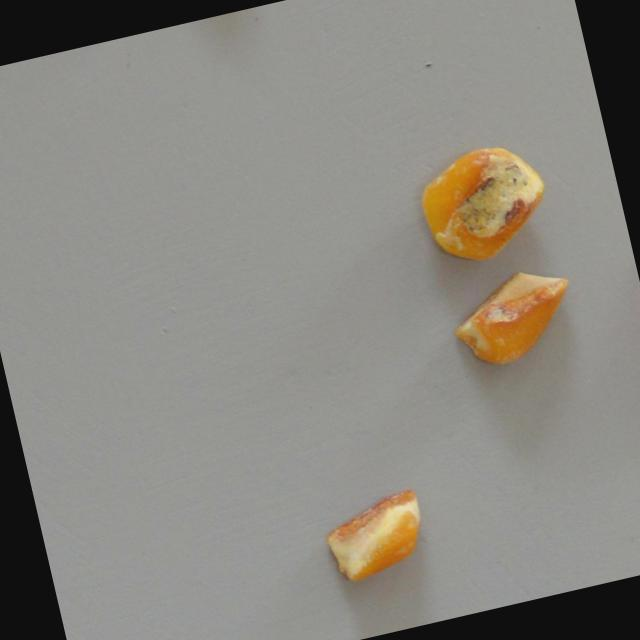dañado: (406, 132, 561, 278), (446, 260, 583, 376), (313, 477, 438, 590)
